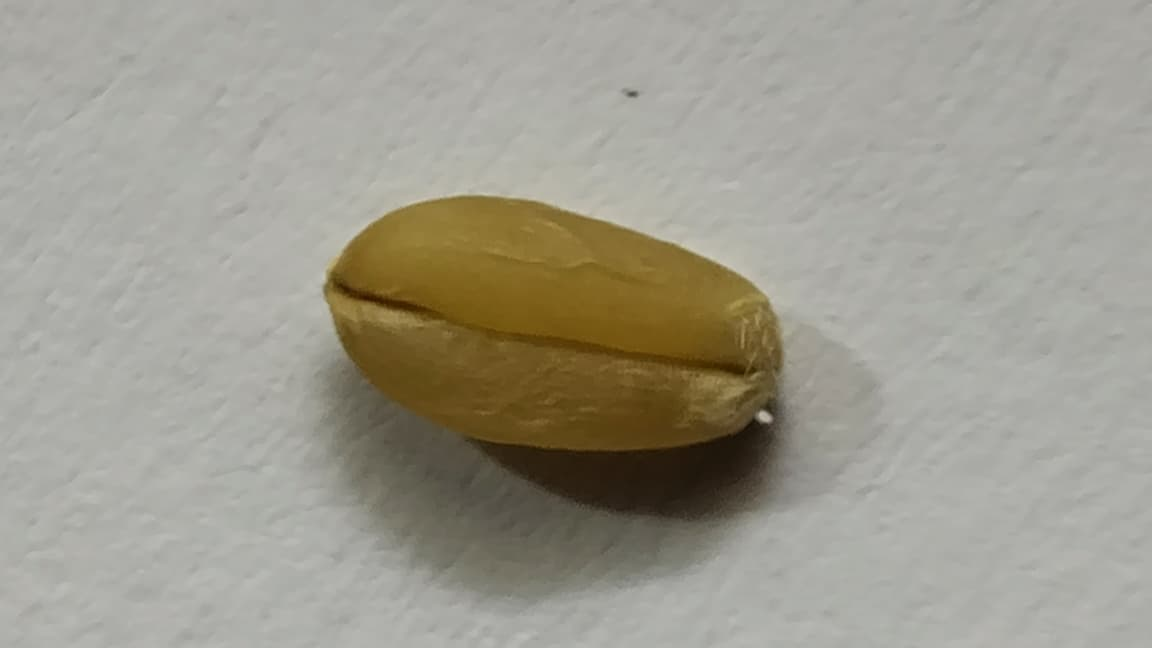healthy: (326, 196, 780, 448)
